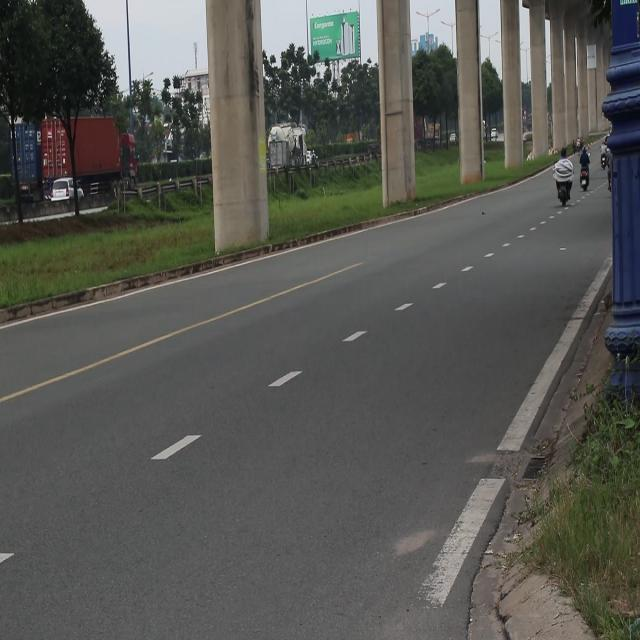car: (49, 180, 80, 201)
motorbike: (555, 181, 576, 220), (576, 161, 598, 196), (598, 144, 610, 171), (607, 156, 614, 200)
truck: (2, 115, 138, 210), (268, 137, 288, 175)
